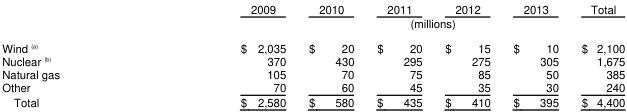table: (1, 0, 624, 108)
table column: (1, 0, 149, 108), (149, 0, 296, 108), (432, 0, 501, 108), (296, 0, 364, 108), (364, 0, 432, 108), (501, 0, 569, 108), (569, 0, 624, 108)
table column header: (1, 0, 624, 35)
table row: (1, 15, 624, 35), (1, 35, 624, 53), (1, 0, 624, 15), (1, 93, 624, 108), (1, 53, 624, 67), (1, 67, 624, 80), (1, 80, 624, 93)
table spanning cell: (149, 15, 624, 35)
